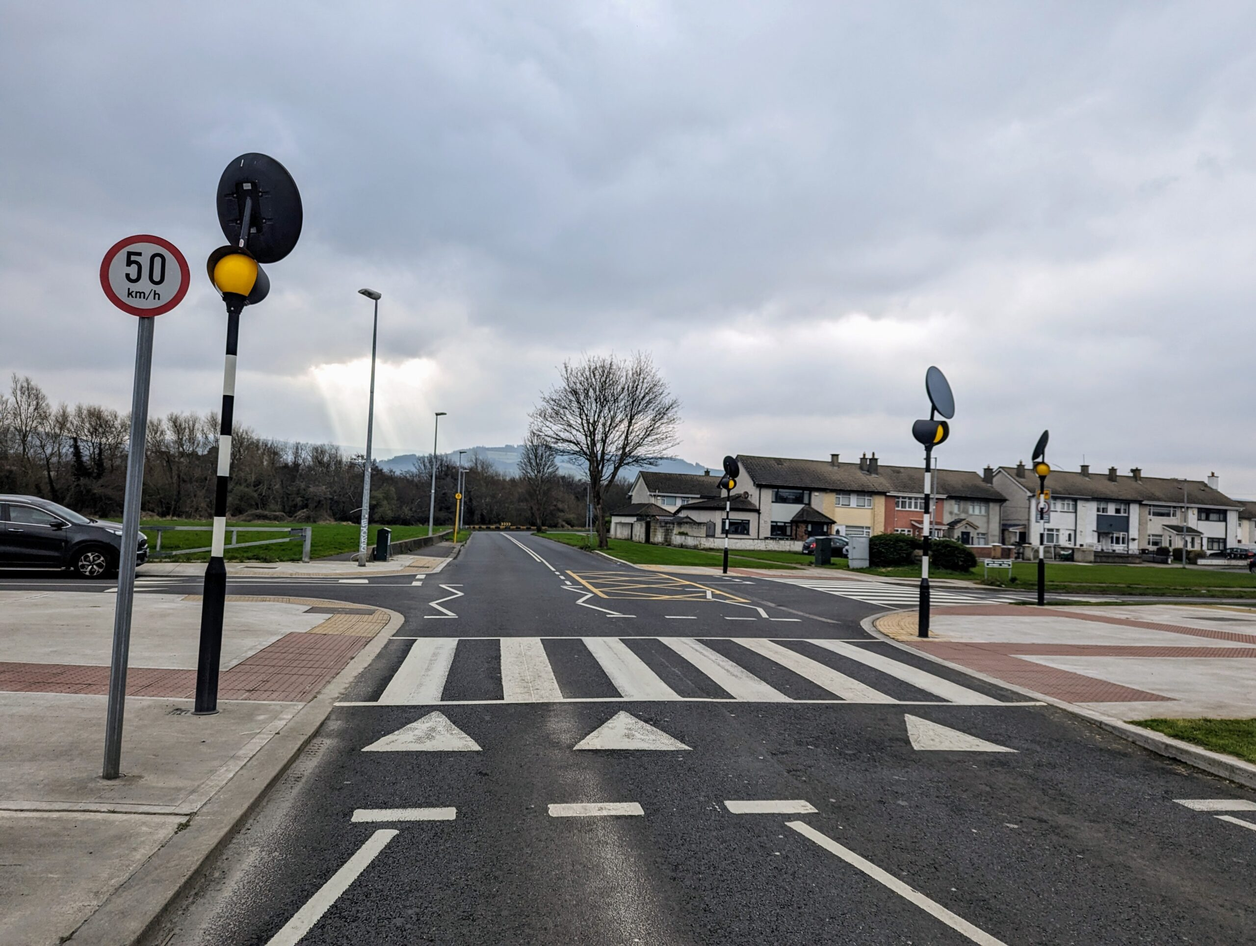Car: (0, 483, 151, 579)
Crosswalk: (338, 625, 1074, 730)
Tree: (532, 355, 659, 553)
